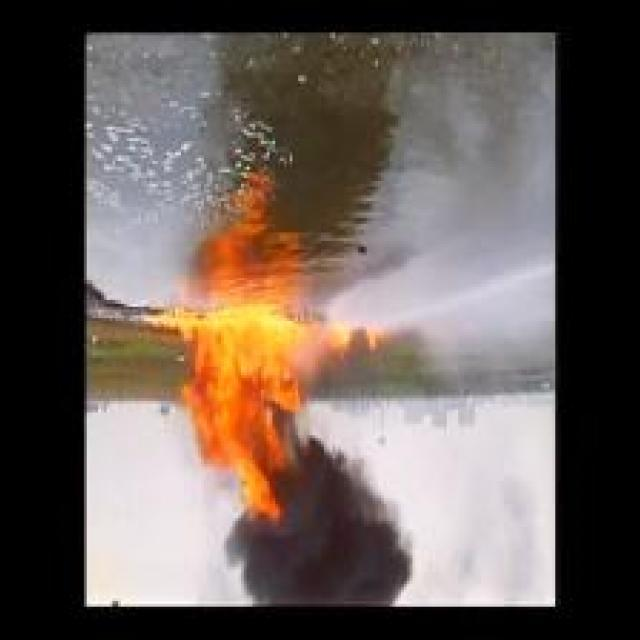Fire: (146, 303, 392, 520)
